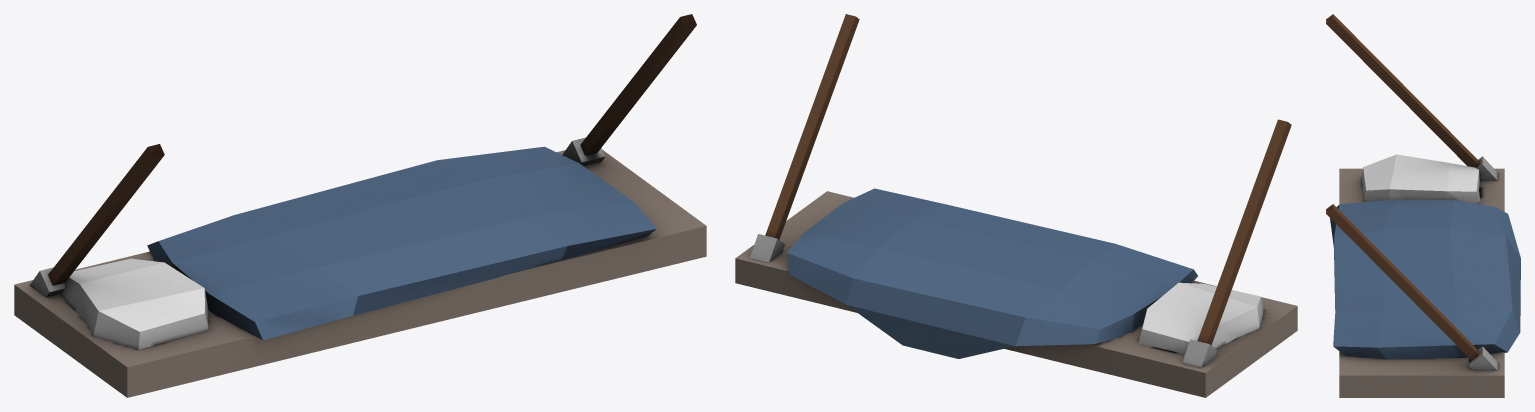
The model's file is Letto.fbx.
3 renders of one model, left to right at view 1: azimuth 30°, elevation 25°; view 2: azimuth 150°, elevation 25°; view 3: azimuth 270°, elevation 25°, orthographic. The views are drawn at different scales.
Parts seen in each view (by area): view 1: Cube.161; view 2: Cube.161; view 3: Cube.161.
Boxes of the visible parts, box(x1,y1,x2,y2) form: Cube.161: box(14, 14, 706, 397); Cube.161: box(735, 14, 1297, 397); Cube.161: box(1326, 14, 1520, 397).
Size of the model in its own units: 199 by 87.62 by 79.5.
Materials: 1 (1 with a texture image).
